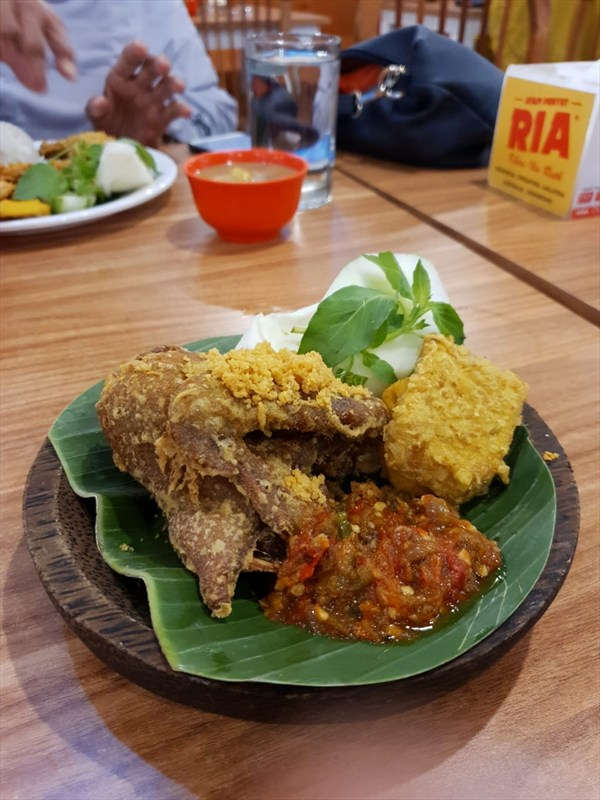Ayam Goreng: (69, 72, 542, 641)
